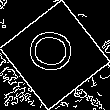O_E: (27, 31, 83, 79)
